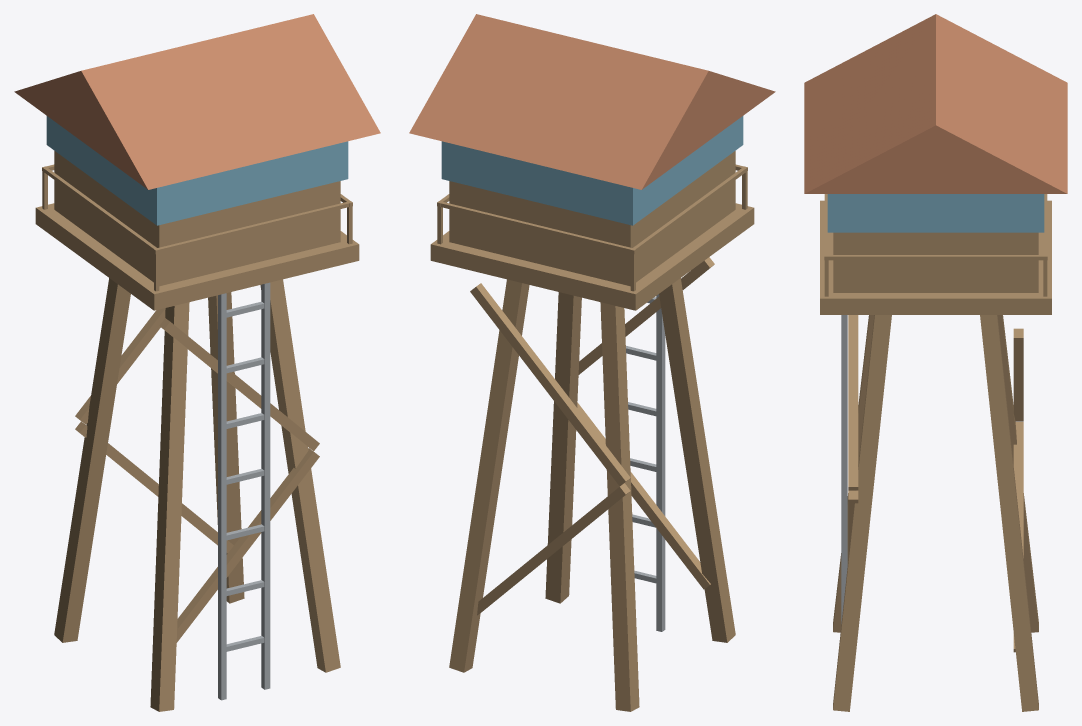
The model's file is watchtower.glb.
3 renders of one model, left to right at view 1: azimuth 30°, elevation 25°; view 2: azimuth 150°, elevation 25°; view 3: azimuth 270°, elevation 25°, orthographic.
Parts seen in each view (by area): view 1: Merged_PropsWood, watch_roof, watch_glass, Merged_PropsMetal; view 2: Merged_PropsWood, watch_roof, watch_glass, Merged_PropsMetal; view 3: Merged_PropsWood, watch_roof, watch_glass, Merged_PropsMetal.
Part boxes in pixels (bbox=[...]): Merged_PropsWood: bbox=[35, 151, 359, 711]; watch_roof: bbox=[14, 14, 380, 189]; watch_glass: bbox=[46, 116, 348, 225]; Merged_PropsMetal: bbox=[218, 282, 270, 700]; Merged_PropsWood: bbox=[430, 151, 754, 711]; watch_roof: bbox=[409, 14, 775, 189]; watch_glass: bbox=[441, 116, 743, 225]; Merged_PropsMetal: bbox=[626, 294, 665, 631]; Merged_PropsWood: bbox=[820, 194, 1051, 711]; watch_roof: bbox=[804, 14, 1067, 193]; watch_glass: bbox=[827, 194, 1044, 232]; Merged_PropsMetal: bbox=[841, 315, 847, 623].
Bounding box in the file's own units: 5.9 × 14.95 × 5.9.
